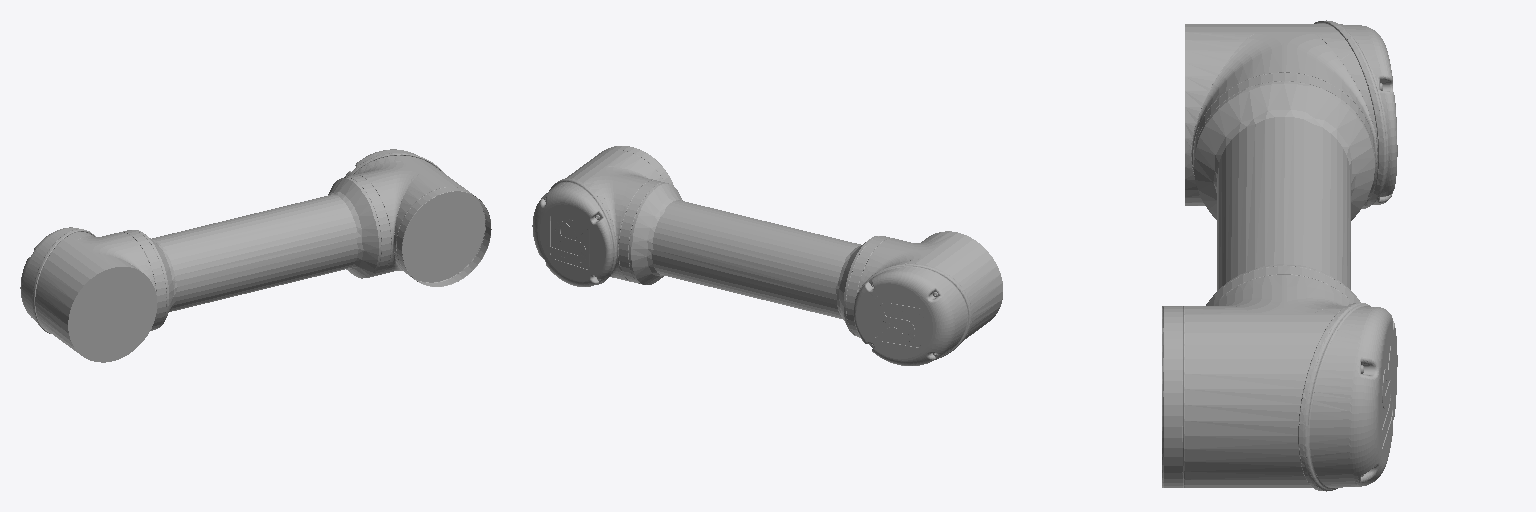
URDF robot description (ur3e):
<?xml version="1.0" encoding="utf-8"?>
<!-- =================================================================================== -->
<!-- |    This document was autogenerated by xacro from ur3e_robot.urdf.xacro          | -->
<!-- |    EDITING THIS FILE BY HAND IS NOT RECOMMENDED                                 | -->
<!-- =================================================================================== -->
<robot name="ur3e">
  <gazebo>
    <plugin filename="libgazebo_ros_control.so" name="ros_control">
    </plugin>
  </gazebo>
  <!-- measured from model -->
  <link name="base_link">
    <visual>
      <geometry>
        <mesh filename="package://criur_description/meshes/ur3e/visual/base.dae"/>
      </geometry>
      <material name="LightGrey">
        <color rgba="0.7 0.7 0.7 1.0"/>
      </material>
    </visual>
    <collision>
      <geometry>
        <mesh filename="package://criur_description/meshes/ur3e/collision/base.stl"/>
      </geometry>
    </collision>
    <inertial>
      <mass value="2.0"/>
      <origin rpy="0 0 0" xyz="0.0 0.0 0.0"/>
      <inertia ixx="0.0030531654454" ixy="0.0" ixz="0.0" iyy="0.0030531654454" iyz="0.0" izz="0.005625"/>
    </inertial>
  </link>
  <joint name="shoulder_pan_joint" type="revolute">
    <parent link="base_link"/>
    <child link="shoulder_link"/>
    <origin rpy="0.0 0.0 0.0" xyz="0.0 0.0 0.152"/>
    <axis xyz="0 0 1"/>
    <limit effort="330.0" lower="-6.28318530718" upper="6.28318530718" velocity="3.14"/>
    <dynamics damping="0.0" friction="0.0"/>
  </joint>
  <link name="shoulder_link">
    <visual>
      <geometry>
        <mesh filename="package://criur_description/meshes/ur3e/visual/shoulder.dae"/>
      </geometry>
      <material name="LightGrey">
        <color rgba="0.7 0.7 0.7 1.0"/>
      </material>
    </visual>
    <collision>
      <geometry>
        <mesh filename="package://criur_description/meshes/ur3e/collision/shoulder.stl"/>
      </geometry>
    </collision>
    <inertial>
      <mass value="2.0"/>
      <origin rpy="0 0 0" xyz="0.0 0.0 0.0"/>
      <inertia ixx="0.0080931634294" ixy="0.0" ixz="0.0" iyy="0.0080931634294" iyz="0.0" izz="0.005625"/>
    </inertial>
  </link>
  <joint name="shoulder_lift_joint" type="revolute">
    <parent link="shoulder_link"/>
    <child link="upper_arm_link"/>
    <origin rpy="0.0 1.57079632679 0.0" xyz="0.0 0.12 0.0"/>
    <axis xyz="0 1 0"/>
    <limit effort="330.0" lower="-6.28318530718" upper="6.28318530718" velocity="3.14"/>
    <dynamics damping="0.0" friction="0.0"/>
  </joint>
  <link name="upper_arm_link">
    <visual>
      <geometry>
        <mesh filename="package://criur_description/meshes/ur3e/visual/upperarm.dae"/>
      </geometry>
      <material name="LightGrey">
        <color rgba="0.7 0.7 0.7 1.0"/>
      </material>
    </visual>
    <collision>
      <geometry>
        <mesh filename="package://criur_description/meshes/ur3e/collision/upperarm.stl"/>
      </geometry>
    </collision>
    <inertial>
      <mass value="3.42"/>
      <origin rpy="0 0 0" xyz="0.0 0.0 0.122"/>
      <inertia ixx="0.0217771262891" ixy="0.0" ixz="0.0" iyy="0.0217771262891" iyz="0.0" izz="0.00961875"/>
    </inertial>
  </link>
  <joint name="elbow_joint" type="revolute">
    <parent link="upper_arm_link"/>
    <child link="forearm_link"/>
    <origin rpy="0.0 0.0 0.0" xyz="0.0 -0.093 0.244"/>
    <axis xyz="0 1 0"/>
    <limit effort="150.0" lower="-3.14159265359" upper="3.14159265359" velocity="3.14"/>
    <dynamics damping="0.0" friction="0.0"/>
  </joint>
  <link name="forearm_link">
    <visual>
      <geometry>
        <mesh filename="package://criur_description/meshes/ur3e/visual/forearm.dae"/>
      </geometry>
      <material name="LightGrey">
        <color rgba="0.7 0.7 0.7 1.0"/>
      </material>
    </visual>
    <collision>
      <geometry>
        <mesh filename="package://criur_description/meshes/ur3e/collision/forearm.stl"/>
      </geometry>
    </collision>
    <inertial>
      <mass value="1.26"/>
      <origin rpy="0 0 0" xyz="0.0 0.0 0.1065"/>
      <inertia ixx="0.00653561738575" ixy="0.0" ixz="0.0" iyy="0.00653561738575" iyz="0.0" izz="0.00354375"/>
    </inertial>
  </link>
  <joint name="wrist_1_joint" type="revolute">
    <parent link="forearm_link"/>
    <child link="wrist_1_link"/>
    <origin rpy="0.0 1.57079632679 0.0" xyz="0.0 0.0 0.213"/>
    <axis xyz="0 1 0"/>
    <limit effort="54.0" lower="-6.28318530718" upper="6.28318530718" velocity="6.28"/>
    <dynamics damping="0.0" friction="0.0"/>
  </joint>
  <link name="wrist_1_link">
    <visual>
      <geometry>
        <mesh filename="package://criur_description/meshes/ur3e/visual/wrist1.dae"/>
      </geometry>
      <material name="LightGrey">
        <color rgba="0.7 0.7 0.7 1.0"/>
      </material>
    </visual>
    <collision>
      <geometry>
        <mesh filename="package://criur_description/meshes/ur3e/collision/wrist1.stl"/>
      </geometry>
    </collision>
    <inertial>
      <mass value="0.8"/>
      <origin rpy="0 0 0" xyz="0.0 0.104 0.0"/>
      <inertia ixx="0.002084999166" ixy="0.0" ixz="0.0" iyy="0.002084999166" iyz="0.0" izz="0.00225"/>
    </inertial>
  </link>
  <joint name="wrist_2_joint" type="revolute">
    <parent link="wrist_1_link"/>
    <child link="wrist_2_link"/>
    <origin rpy="0.0 0.0 0.0" xyz="0.0 0.104 0.0"/>
    <axis xyz="0 0 1"/>
    <limit effort="54.0" lower="-6.28318530718" upper="6.28318530718" velocity="6.28"/>
    <dynamics damping="0.0" friction="0.0"/>
  </joint>
  <link name="wrist_2_link">
    <visual>
      <geometry>
        <mesh filename="package://criur_description/meshes/ur3e/visual/wrist2.dae"/>
      </geometry>
      <material name="LightGrey">
        <color rgba="0.7 0.7 0.7 1.0"/>
      </material>
    </visual>
    <collision>
      <geometry>
        <mesh filename="package://criur_description/meshes/ur3e/collision/wrist2.stl"/>
      </geometry>
    </collision>
    <inertial>
      <mass value="0.8"/>
      <origin rpy="0 0 0" xyz="0.0 0.0 0.085"/>
      <inertia ixx="0.002084999166" ixy="0.0" ixz="0.0" iyy="0.002084999166" iyz="0.0" izz="0.00225"/>
    </inertial>
  </link>
  <joint name="wrist_3_joint" type="revolute">
    <parent link="wrist_2_link"/>
    <child link="wrist_3_link"/>
    <origin rpy="0.0 0.0 0.0" xyz="0.0 0.0 0.085"/>
    <axis xyz="0 1 0"/>
    <limit effort="54.0" lower="-6.28318530718" upper="6.28318530718" velocity="6.28"/>
    <dynamics damping="0.0" friction="0.0"/>
  </joint>
  <link name="wrist_3_link">
    <visual>
      <geometry>
        <mesh filename="package://criur_description/meshes/ur3e/visual/wrist3.dae"/>
      </geometry>
      <material name="LightGrey">
        <color rgba="0.7 0.7 0.7 1.0"/>
      </material>
    </visual>
    <collision>
      <geometry>
        <mesh filename="package://criur_description/meshes/ur3e/collision/wrist3.stl"/>
      </geometry>
    </collision>
    <inertial>
      <mass value="0.35"/>
      <origin rpy="1.57079632679 0 0" xyz="0.0 0.071 0.0"/>
      <inertia ixx="0.00014104994358" ixy="0.0" ixz="0.0" iyy="0.00014104994358" iyz="0.0" izz="0.0001792"/>
    </inertial>
  </link>

  <joint name="ee_fixed_joint" type="fixed">
    <parent link="wrist_3_link"/>
    <child link="ee_link"/>
    <origin rpy="-1.5708 0.0 0" xyz="0.0 0.1 0.0"/>
  </joint>
  <link name="ee_link">
    <collision>
      <geometry>
        <box size="0.01 0.01 0.01"/>
      </geometry>
      <origin rpy="0 0 0" xyz="-0.01 0 0"/>
    </collision>
  </link>

  <transmission name="shoulder_pan_trans">
    <type>transmission_interface/SimpleTransmission</type>
    <joint name="shoulder_pan_joint">
      <hardwareInterface>hardware_interface/PositionJointInterface</hardwareInterface>
    </joint>
    <actuator name="shoulder_pan_motor">
      <mechanicalReduction>1</mechanicalReduction>
    </actuator>
  </transmission>
  <transmission name="shoulder_lift_trans">
    <type>transmission_interface/SimpleTransmission</type>
    <joint name="shoulder_lift_joint">
      <hardwareInterface>hardware_interface/PositionJointInterface</hardwareInterface>
    </joint>
    <actuator name="shoulder_lift_motor">
      <mechanicalReduction>1</mechanicalReduction>
    </actuator>
  </transmission>
  <transmission name="elbow_trans">
    <type>transmission_interface/SimpleTransmission</type>
    <joint name="elbow_joint">
      <hardwareInterface>hardware_interface/PositionJointInterface</hardwareInterface>
    </joint>
    <actuator name="elbow_motor">
      <mechanicalReduction>1</mechanicalReduction>
    </actuator>
  </transmission>
  <transmission name="wrist_1_trans">
    <type>transmission_interface/SimpleTransmission</type>
    <joint name="wrist_1_joint">
      <hardwareInterface>hardware_interface/PositionJointInterface</hardwareInterface>
    </joint>
    <actuator name="wrist_1_motor">
      <mechanicalReduction>1</mechanicalReduction>
    </actuator>
  </transmission>
  <transmission name="wrist_2_trans">
    <type>transmission_interface/SimpleTransmission</type>
    <joint name="wrist_2_joint">
      <hardwareInterface>hardware_interface/PositionJointInterface</hardwareInterface>
    </joint>
    <actuator name="wrist_2_motor">
      <mechanicalReduction>1</mechanicalReduction>
    </actuator>
  </transmission>
  <transmission name="wrist_3_trans">
    <type>transmission_interface/SimpleTransmission</type>
    <joint name="wrist_3_joint">
      <hardwareInterface>hardware_interface/PositionJointInterface</hardwareInterface>
    </joint>
    <actuator name="wrist_3_motor">
      <mechanicalReduction>1</mechanicalReduction>
    </actuator>
  </transmission>
  <gazebo reference="shoulder_link">
    <selfCollide>true</selfCollide>
  </gazebo>
  <gazebo reference="upper_arm_link">
    <selfCollide>true</selfCollide>
  </gazebo>
  <gazebo reference="forearm_link">
    <selfCollide>true</selfCollide>
  </gazebo>
  <gazebo reference="wrist_1_link">
    <selfCollide>true</selfCollide>
  </gazebo>
  <gazebo reference="wrist_3_link">
    <selfCollide>true</selfCollide>
  </gazebo>
  <gazebo reference="wrist_2_link">
    <selfCollide>true</selfCollide>
  </gazebo>
  <gazebo reference="ee_link">
    <selfCollide>true</selfCollide>
  </gazebo>
  <!-- ROS base_link to UR 'Base' Coordinates transform -->
  <link name="base"/>
  <joint name="base_link-base_fixed_joint" type="fixed">
    <!-- NOTE: this rotation is only needed as long as base_link itself is
                 not corrected wrt the real robot (ie: rotated over 180
                 degrees)
      -->
    <origin rpy="0 0 -3.14159265359" xyz="0 0 0"/>
    <parent link="base_link"/>
    <child link="base"/>
  </joint>
  <!-- Frame coincident with all-zeros TCP on UR controller -->
  <link name="tool0"/>
  <joint name="wrist_3_link-tool0_fixed_joint" type="fixed">
    <origin rpy="-1.57079632679 0 0" xyz="0 0.092 0"/>
    <parent link="wrist_3_link"/>
    <child link="tool0"/>
  </joint>
  <link name="world"/>
  <joint name="world_joint" type="fixed">
    <parent link="world"/>
    <child link="base_link"/>
    <origin rpy="0.0 0.0 0.0" xyz="0.0 0.0 0.0"/>
  </joint>
</robot>

--- Facts derived from the render (not from the file) ---
The picture shows the robot from 3 angles, left to right: view 1: azimuth 30°, elevation 25°; view 2: azimuth 150°, elevation 25°; view 3: azimuth 270°, elevation 25°; orthographic projection.
Model ur3e with 11 links and 10 joints (6 revolute, 4 fixed), rooted at world, posed every joint at zero.
Links seen in each view (by area): view 1: upper_arm_link; view 2: upper_arm_link; view 3: upper_arm_link.
Link boxes in pixels (bbox=[...]): upper_arm_link: bbox=[20, 149, 491, 362]; upper_arm_link: bbox=[532, 146, 1002, 365]; upper_arm_link: bbox=[1162, 20, 1397, 491].
Bounding box of the posed robot: 0.5452 × 0.1496 × 0.1202 m (x, y, z).
1 mesh visuals loaded from 7 distinct referenced files (1 Collada DAE); not drawn: 6 (reference not matched to a file when rendering).